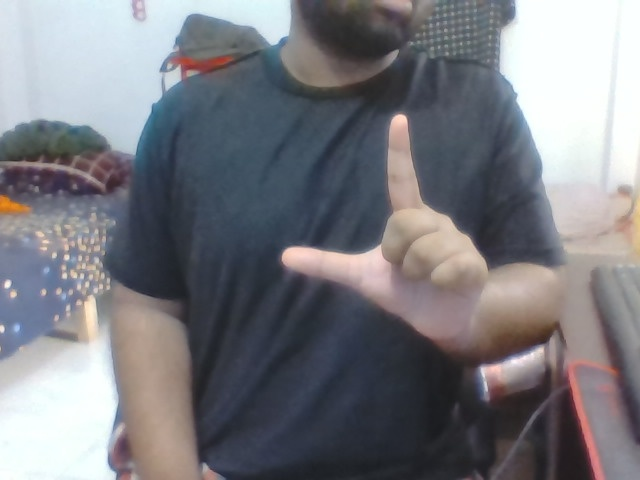L: (256, 107, 500, 362)
